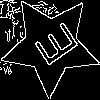E: (25, 20, 80, 74)
